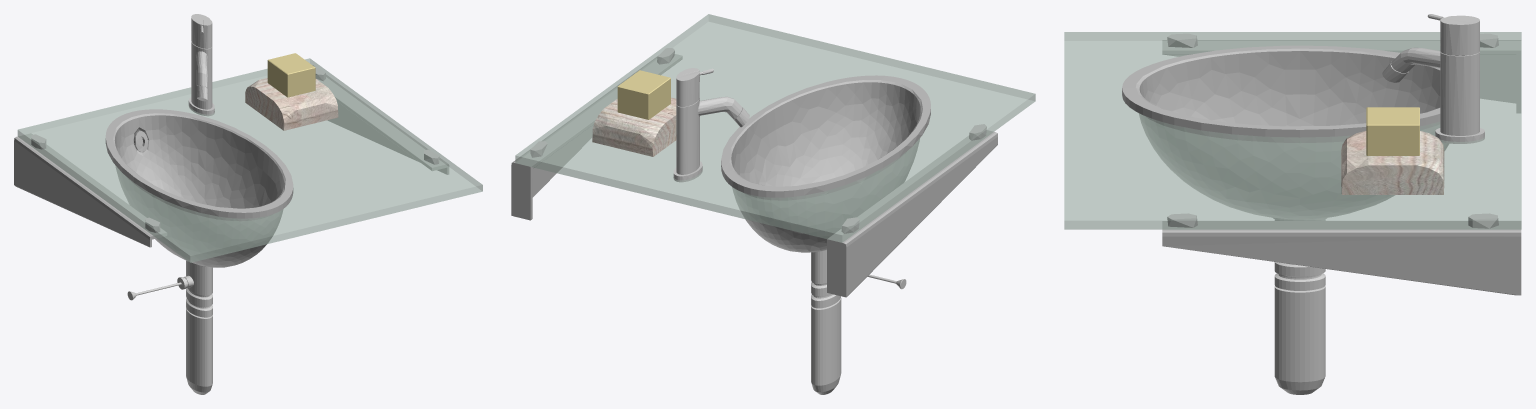
The model's file is sh-scopia-bathroom3.glb.
3 renders of one model, left to right at view 1: azimuth 30°, elevation 25°; view 2: azimuth 150°, elevation 25°; view 3: azimuth 270°, elevation 25°, orthographic. The views are drawn at different scales.
Visible parts, largest first — view 1: cristal_bajo.002_Circle.001, pica_agujereada_Sphere.001, soporte_l_Plane.002, tuberia_desague_Cylinder, jabonera_madera_Cube.003, grifo_mono_Circle.003, jabon_Cube.004, soporte_redondo.003_Cylinder.007; view 2: cristal_bajo.002_Circle.001, pica_agujereada_Sphere.001, soporte_l_Plane.002, tuberia_desague_Cylinder, grifo_mono_Circle.003, jabonera_madera_Cube.003, jabon_Cube.004, soporte_redondo.003_Cylinder.007; view 3: cristal_bajo.002_Circle.001, pica_agujereada_Sphere.001, soporte_l_Plane.002, tuberia_desague_Cylinder, grifo_mono_Circle.003, jabonera_madera_Cube.003, jabon_Cube.004, soporte_redondo.003_Cylinder.007.
Part boxes in pixels (x1=…): cristal_bajo.002_Circle.001: x1=17, y1=58, x2=482, y2=262; pica_agujereada_Sphere.001: x1=105, y1=109, x2=293, y2=267; soporte_l_Plane.002: x1=14, y1=65, x2=448, y2=247; tuberia_desague_Cylinder: x1=127, y1=260, x2=212, y2=394; jabonera_madera_Cube.003: x1=245, y1=77, x2=338, y2=130; grifo_mono_Circle.003: x1=188, y1=14, x2=214, y2=266; jabon_Cube.004: x1=267, y1=53, x2=315, y2=97; soporte_redondo.003_Cylinder.007: x1=31, y1=66, x2=439, y2=232; cristal_bajo.002_Circle.001: x1=515, y1=14, x2=1035, y2=242; pica_agujereada_Sphere.001: x1=721, y1=75, x2=930, y2=252; soporte_l_Plane.002: x1=511, y1=54, x2=997, y2=297; tuberia_desague_Cylinder: x1=811, y1=250, x2=906, y2=394; grifo_mono_Circle.003: x1=673, y1=68, x2=826, y2=251; jabonera_madera_Cube.003: x1=592, y1=97, x2=676, y2=156; jabon_Cube.004: x1=617, y1=70, x2=670, y2=119; soporte_redondo.003_Cylinder.007: x1=530, y1=48, x2=986, y2=233; cristal_bajo.002_Circle.001: x1=1064, y1=32, x2=1521, y2=229; pica_agujereada_Sphere.001: x1=1122, y1=45, x2=1448, y2=218; soporte_l_Plane.002: x1=1162, y1=40, x2=1521, y2=295; tuberia_desague_Cylinder: x1=1274, y1=219, x2=1325, y2=394; grifo_mono_Circle.003: x1=1273, y1=14, x2=1484, y2=220; jabonera_madera_Cube.003: x1=1341, y1=131, x2=1444, y2=194; jabon_Cube.004: x1=1366, y1=107, x2=1419, y2=155; soporte_redondo.003_Cylinder.007: x1=1167, y1=33, x2=1498, y2=228.
Bounding box in the file's own units: 1 × 1 × 1.
8 materials, 2 textured.
